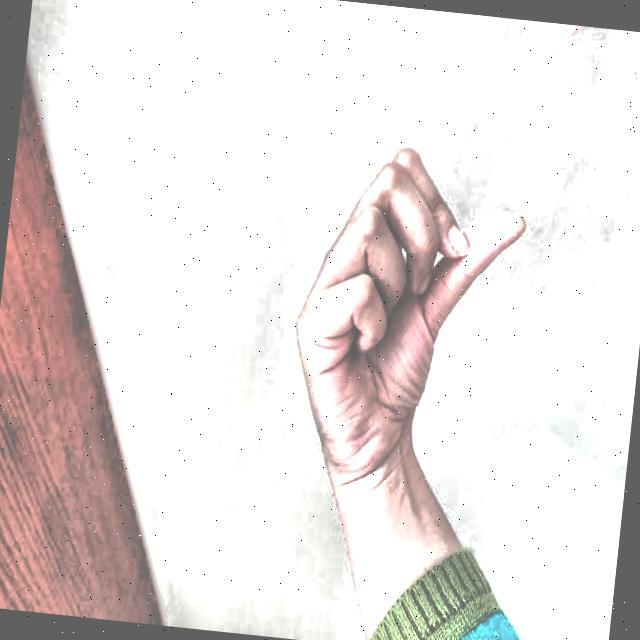Ay: (261, 92, 554, 508)
